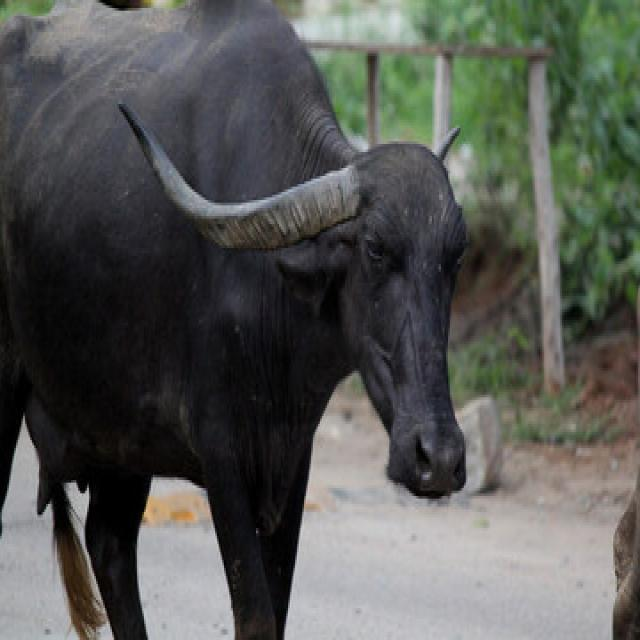Buffalo: (0, 0, 471, 637)
